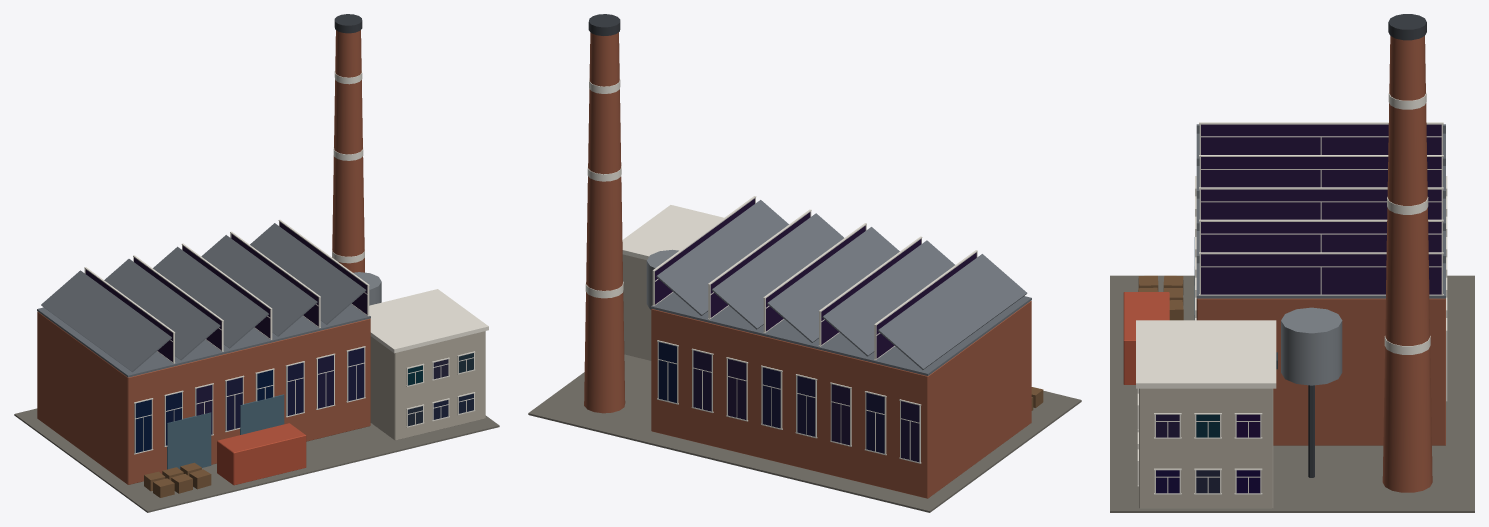
Rendered from factory.glb.
The picture shows the model from 3 angles, left to right: view 1: azimuth 30°, elevation 25°; view 2: azimuth 150°, elevation 25°; view 3: azimuth 270°, elevation 25°; orthographic projection. The views are drawn at different scales.
Visible parts, largest first — view 1: factory; view 2: factory; view 3: factory.
Part boxes in pixels (x1,y1,x2,y2): factory: (14,14,499,512); factory: (528,14,1081,512); factory: (1110,14,1474,512).
Bounding box in the file's own units: 29 × 26.6 × 19.
